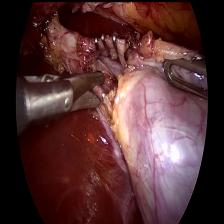Grasper: (159, 49, 211, 102)
Scissors: (33, 60, 105, 122)
